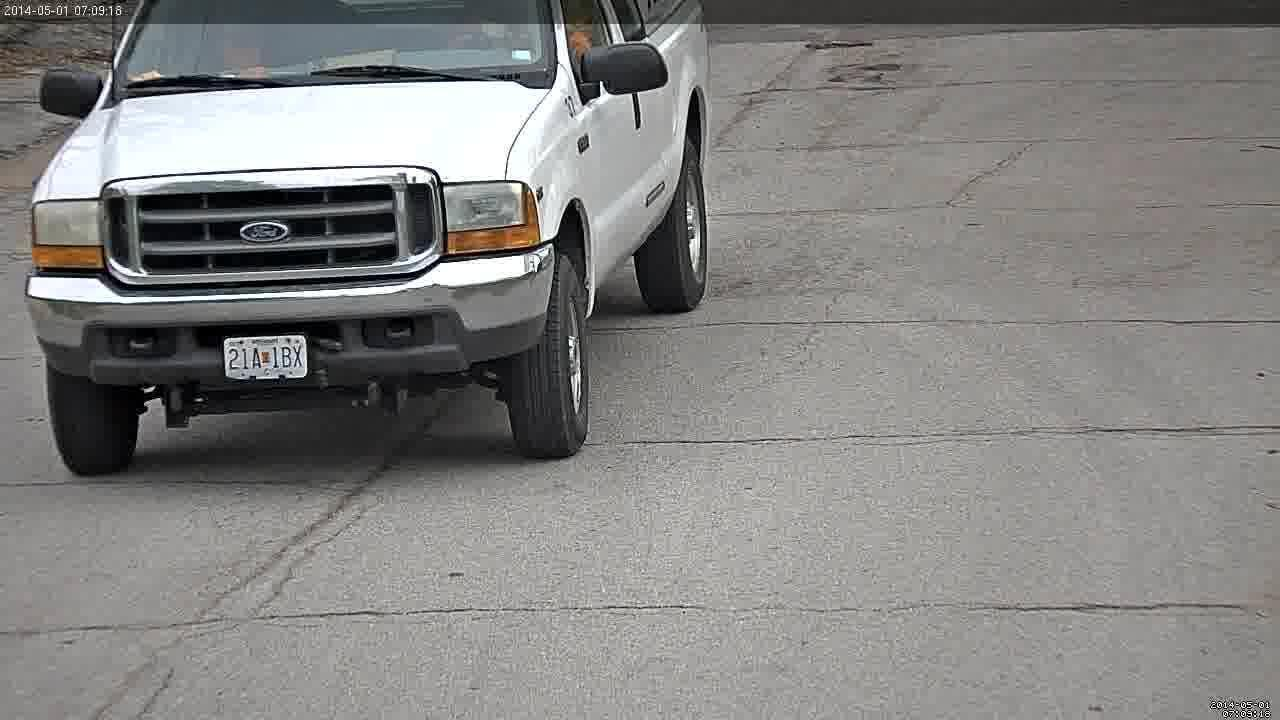placa de veiculo: (199, 324, 339, 397)
